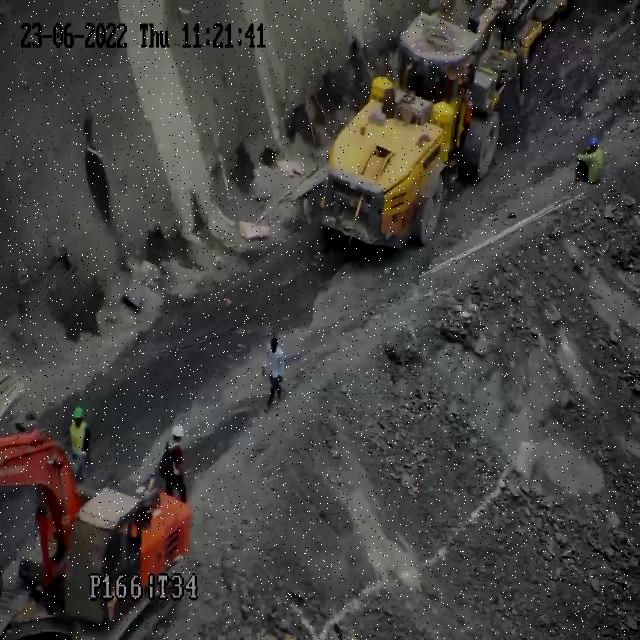Helmet: (71, 403, 84, 419), (172, 424, 184, 436), (588, 137, 599, 148)
Mask: (68, 420, 88, 455)
